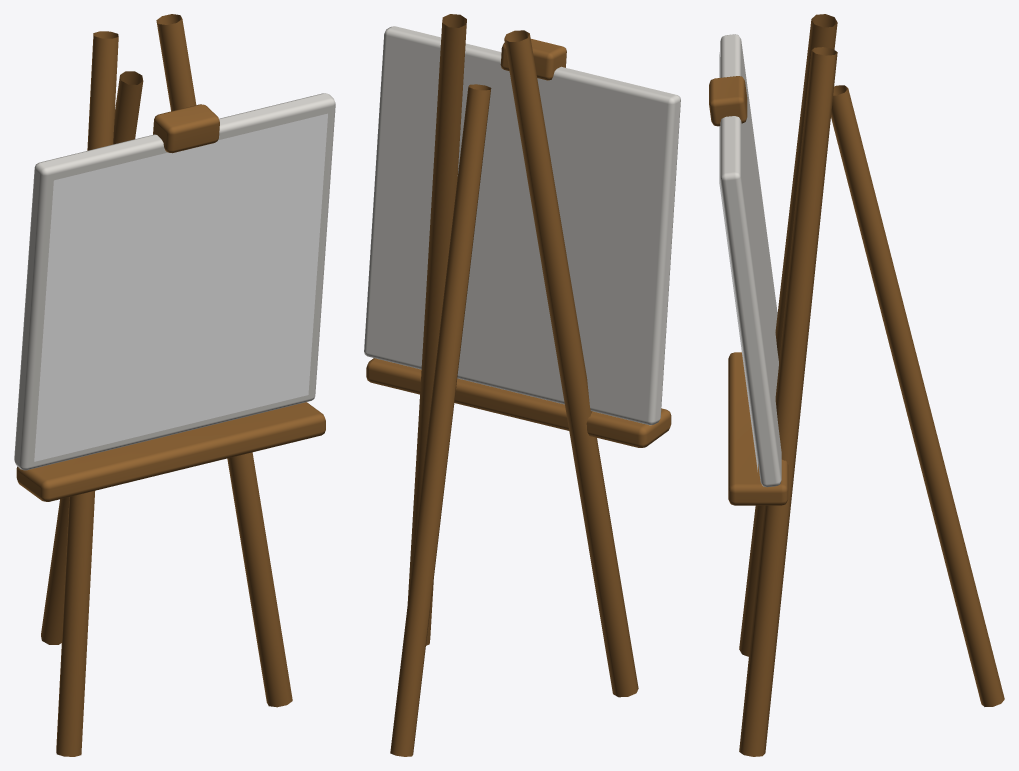
Rendered from furn_shop_easel.glb.
3 renders of one model, left to right at view 1: azimuth 30°, elevation 25°; view 2: azimuth 150°, elevation 25°; view 3: azimuth 270°, elevation 25°, orthographic.
Visible parts, largest first — view 1: furn_shop_easel_pic, furn_shop_easel_main; view 2: furn_shop_easel_main; view 3: furn_shop_easel_main, furn_shop_easel_pic.
Part boxes in pixels (<box>): furn_shop_easel_pic: <box>34,113,327,461</box>; furn_shop_easel_main: <box>14,14,335,756</box>; furn_shop_easel_main: <box>364,14,680,756</box>; furn_shop_easel_main: <box>709,14,1004,756</box>; furn_shop_easel_pic: <box>719,52,757,471</box>.
Size of the model in its own units: 0.56 by 1.23 by 0.4911.
